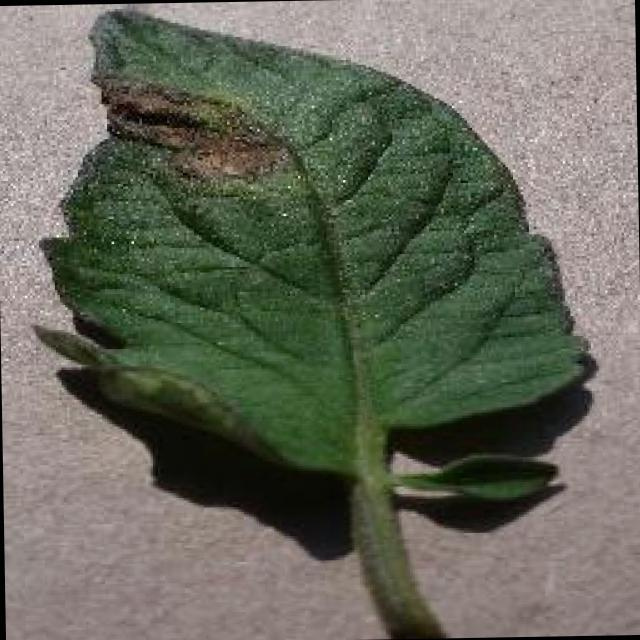Tomato late blight leaf: (25, 2, 592, 478)
